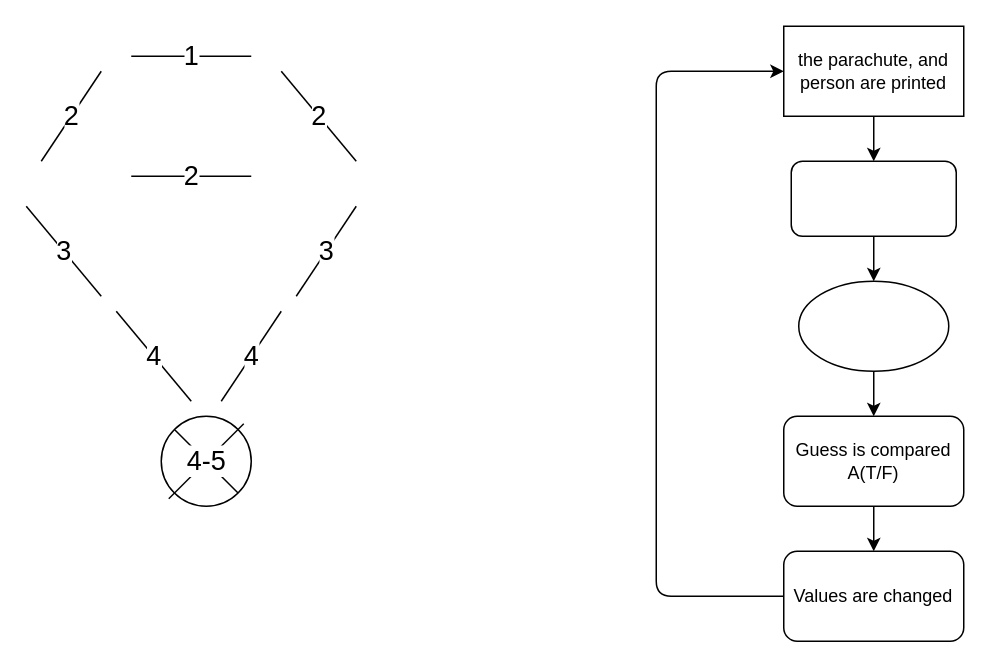
This 990x668 diagram has some shape labels left out. The shapes that lost their labels are listed below. From the top down, each one's centre as x and y in pixels, then its label:
At point 873,198: "Random Word is chosen".
At point 873,325: "Player inputs their guess".
